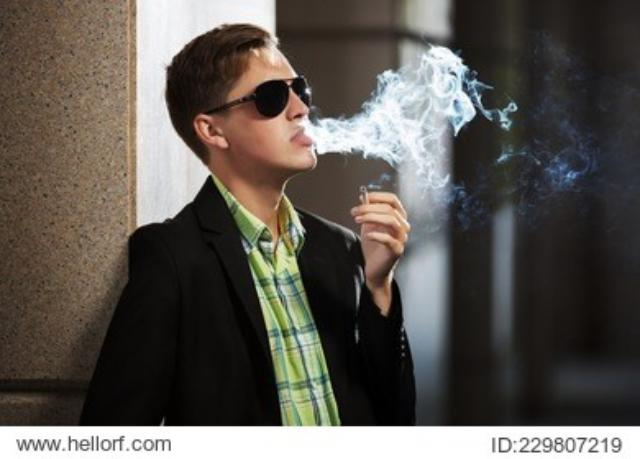Cigarette: (346, 171, 382, 219)
